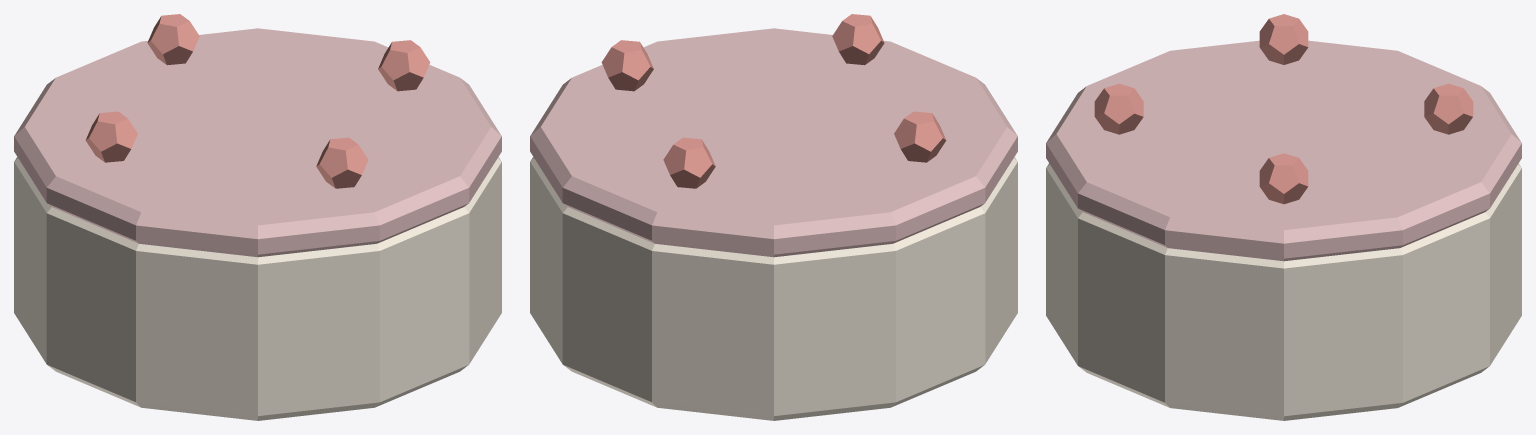
File: SM_Cake.fbx
3 views of the same model, side by side, from view 1: azimuth 30°, elevation 25°; view 2: azimuth 150°, elevation 25°; view 3: azimuth 270°, elevation 25° (orthographic). The views are drawn at different scales.
Parts seen in each view (by area): view 1: Cake; view 2: Cake; view 3: Cake.
Part boxes in pixels (x1,y1,x2,y2): Cake: [14, 14, 501, 420]; Cake: [530, 14, 1017, 420]; Cake: [1046, 14, 1521, 420].
Size of the model in its own units: 26 by 14.14 by 26.
